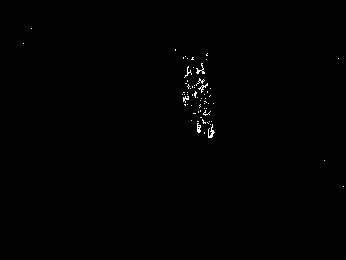person: (182, 70, 204, 136), (197, 77, 216, 140)
